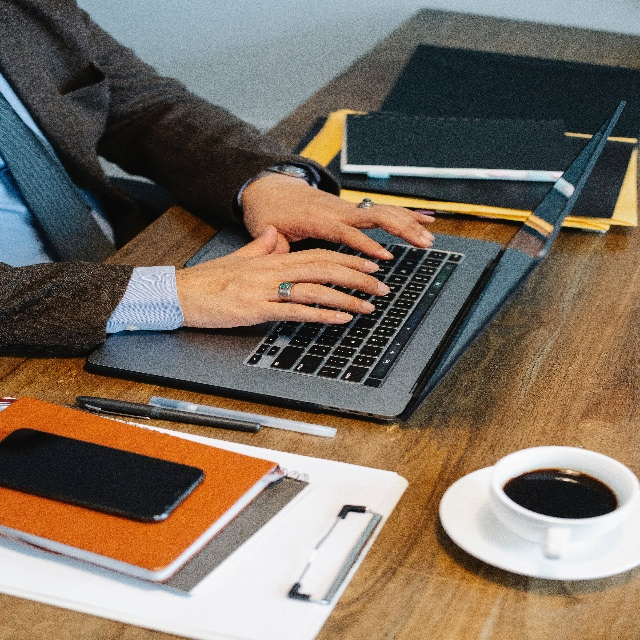Sin_guantes: (172, 224, 390, 334), (241, 171, 436, 254)
